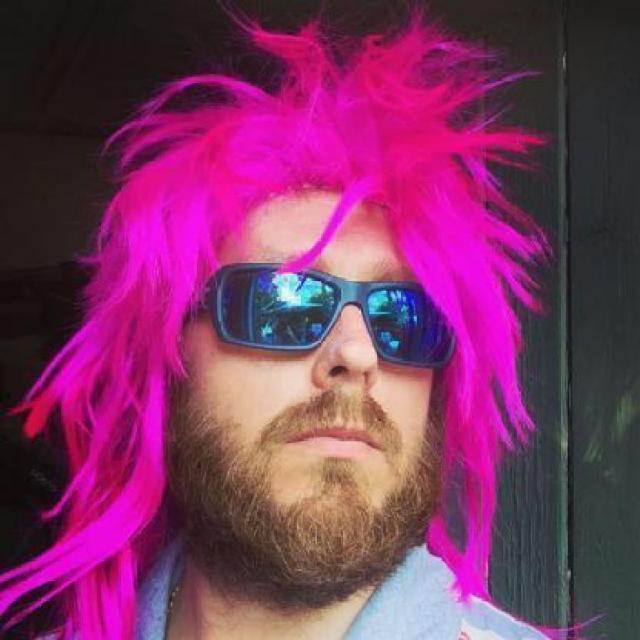face_nomask: (205, 256, 446, 478)
glasses: (195, 254, 450, 369)
head_nohelmet: (128, 98, 526, 242)
